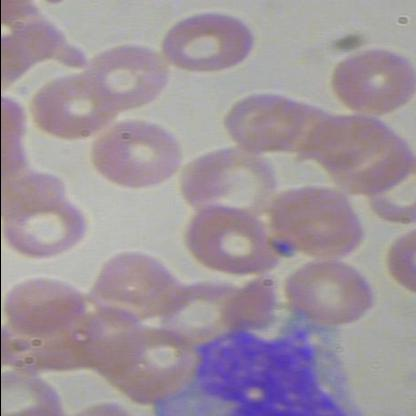RBC: (186, 204, 286, 281), (86, 118, 184, 194), (158, 8, 260, 80), (327, 42, 415, 121), (284, 260, 380, 331), (1, 190, 92, 262), (2, 268, 93, 340), (83, 44, 172, 114), (31, 73, 120, 143)
WBC: (145, 304, 366, 415)
